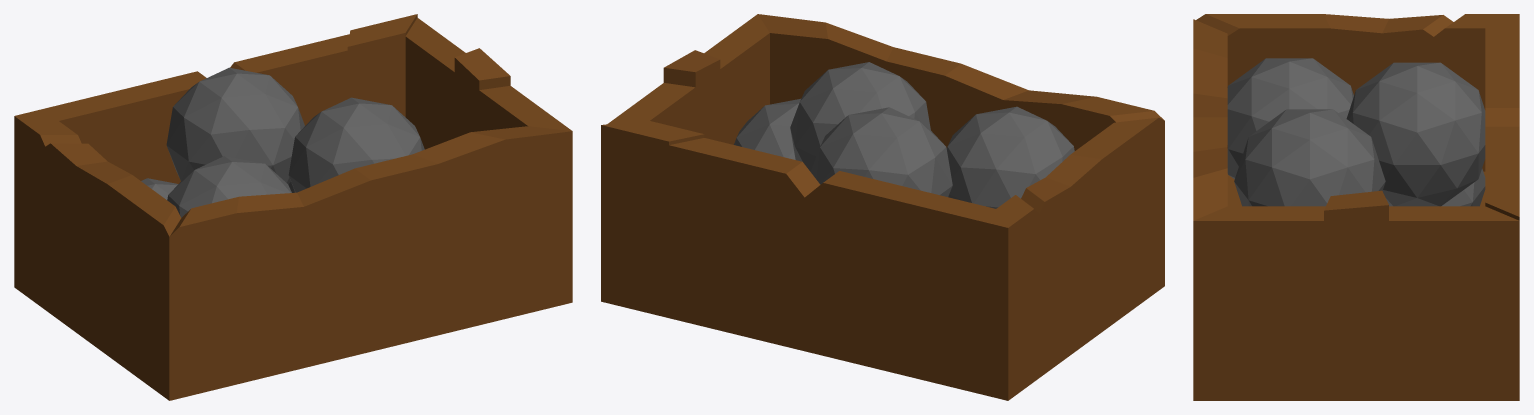
The model's file is LowPoly_Gun_Ammo_01.fbx.
3 views of the same model, side by side, from view 1: azimuth 30°, elevation 25°; view 2: azimuth 150°, elevation 25°; view 3: azimuth 270°, elevation 25° (orthographic). The views are drawn at different scales.
Parts seen in each view (by area): view 1: Box, Ammo; view 2: Box, Ammo; view 3: Box, Ammo.
Boxes of the visible parts, x1,y1,x2,y2 form: Box: (14,14,572,400); Ammo: (141,67,424,217); Box: (601,14,1164,400); Ammo: (734,62,1074,208); Box: (1193,14,1519,400); Ammo: (1227,58,1485,206).
Size of the model in its own units: 300 by 161 by 200.
